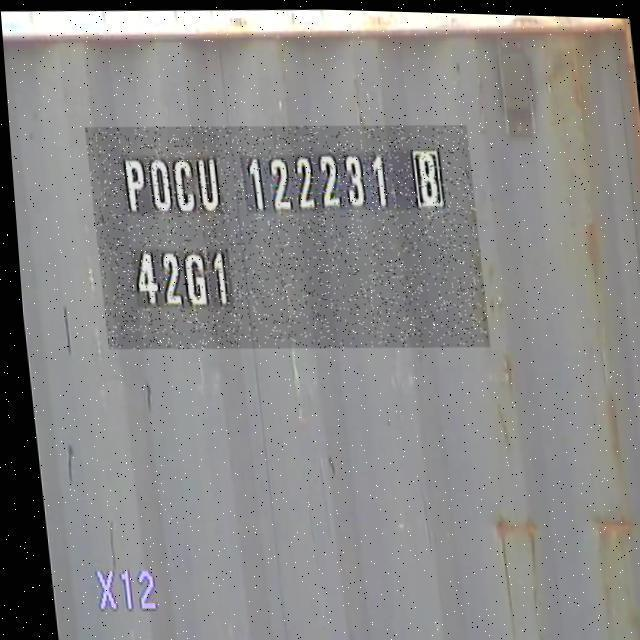container_number_h: (81, 113, 486, 357)
